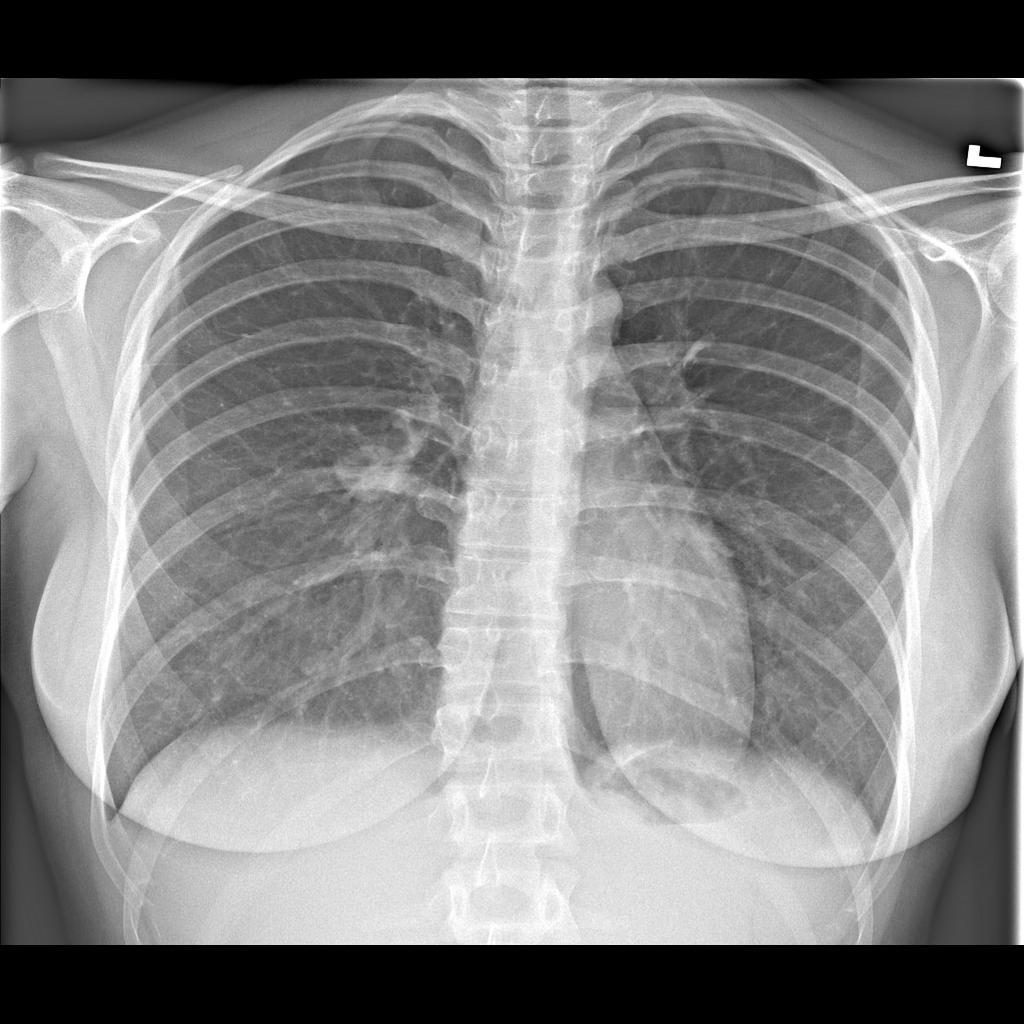Nodule: (321, 428, 414, 511)
